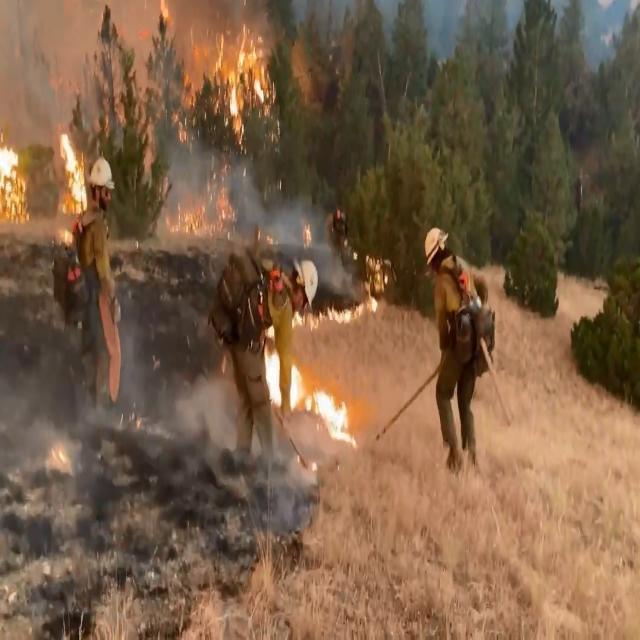Fire: (141, 1, 278, 123), (248, 321, 354, 438), (1, 119, 100, 230)
